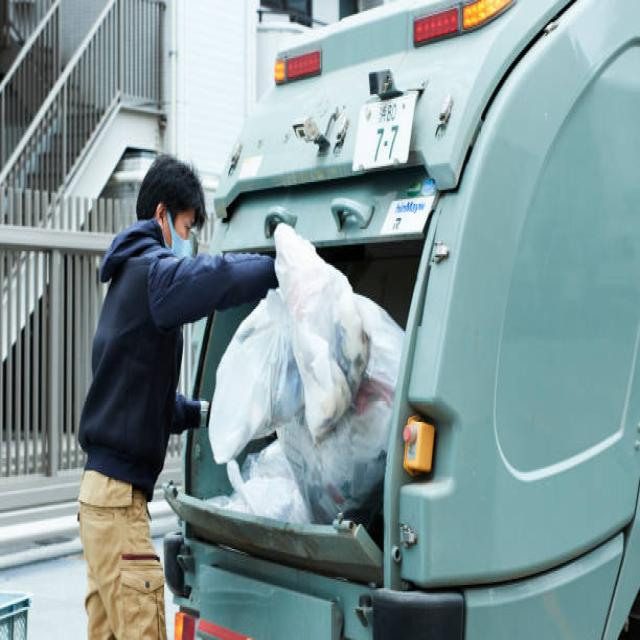plastic: (211, 322, 391, 522), (280, 240, 384, 507)
